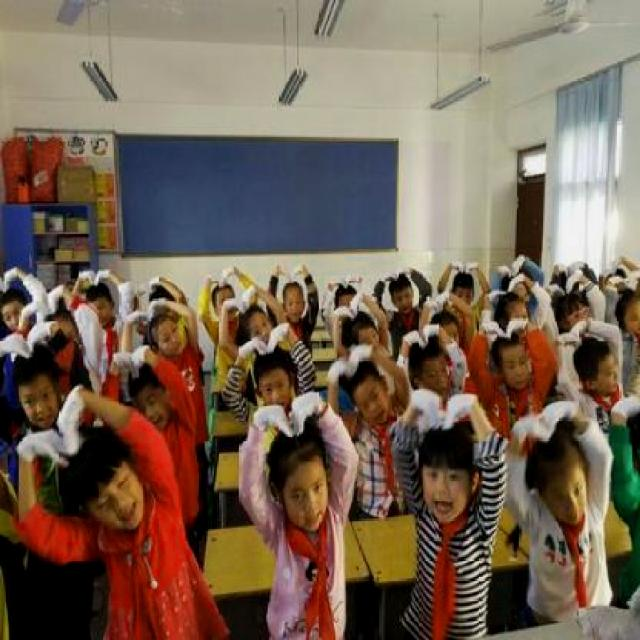face_nomask: (93, 470, 144, 528), (284, 475, 330, 530), (422, 468, 467, 521), (548, 480, 590, 526), (21, 386, 57, 428), (358, 387, 390, 424), (597, 361, 625, 393), (504, 354, 530, 386)
hand_glove: (23, 418, 71, 471), (58, 380, 88, 462), (289, 388, 326, 440), (412, 378, 445, 432), (440, 388, 477, 434), (258, 402, 294, 443), (542, 395, 578, 428), (512, 409, 550, 438), (346, 340, 376, 374), (268, 315, 292, 354), (28, 315, 52, 354), (126, 298, 148, 336), (132, 340, 154, 378), (112, 344, 136, 378), (242, 329, 266, 360), (46, 277, 63, 320), (3, 261, 25, 294), (25, 288, 43, 324), (146, 270, 166, 302), (145, 292, 163, 326), (423, 317, 442, 349), (403, 325, 422, 357), (505, 314, 529, 338), (485, 317, 509, 340), (565, 266, 586, 292), (509, 268, 528, 295), (220, 295, 245, 314), (555, 325, 574, 349), (350, 284, 364, 316), (488, 280, 506, 303), (242, 283, 256, 311), (437, 285, 449, 312), (342, 298, 356, 320), (458, 258, 476, 274), (397, 263, 412, 282), (380, 268, 397, 284)
hand_noglove: (3, 329, 31, 362)
person: (39, 398, 190, 640), (230, 392, 358, 632), (380, 391, 508, 629), (524, 402, 608, 623)
